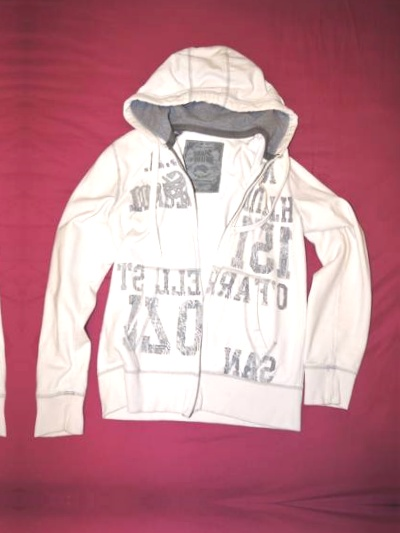Hoodie: (25, 46, 388, 472), (0, 40, 20, 466), (0, 527, 12, 533)
